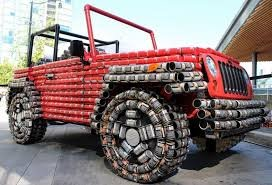mobil: (14, 18, 265, 172)
